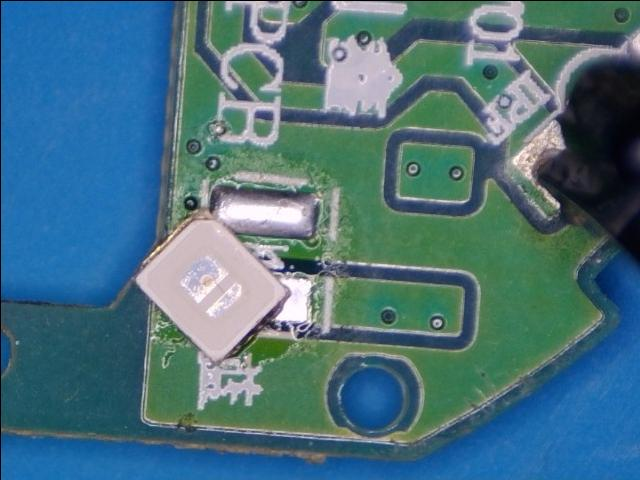Incorrect_installation: (131, 187, 317, 367)
